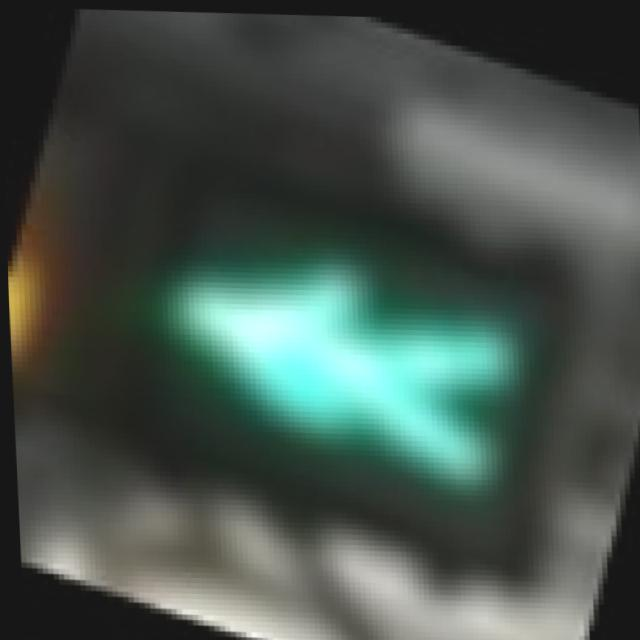green_light: (63, 119, 582, 569)
